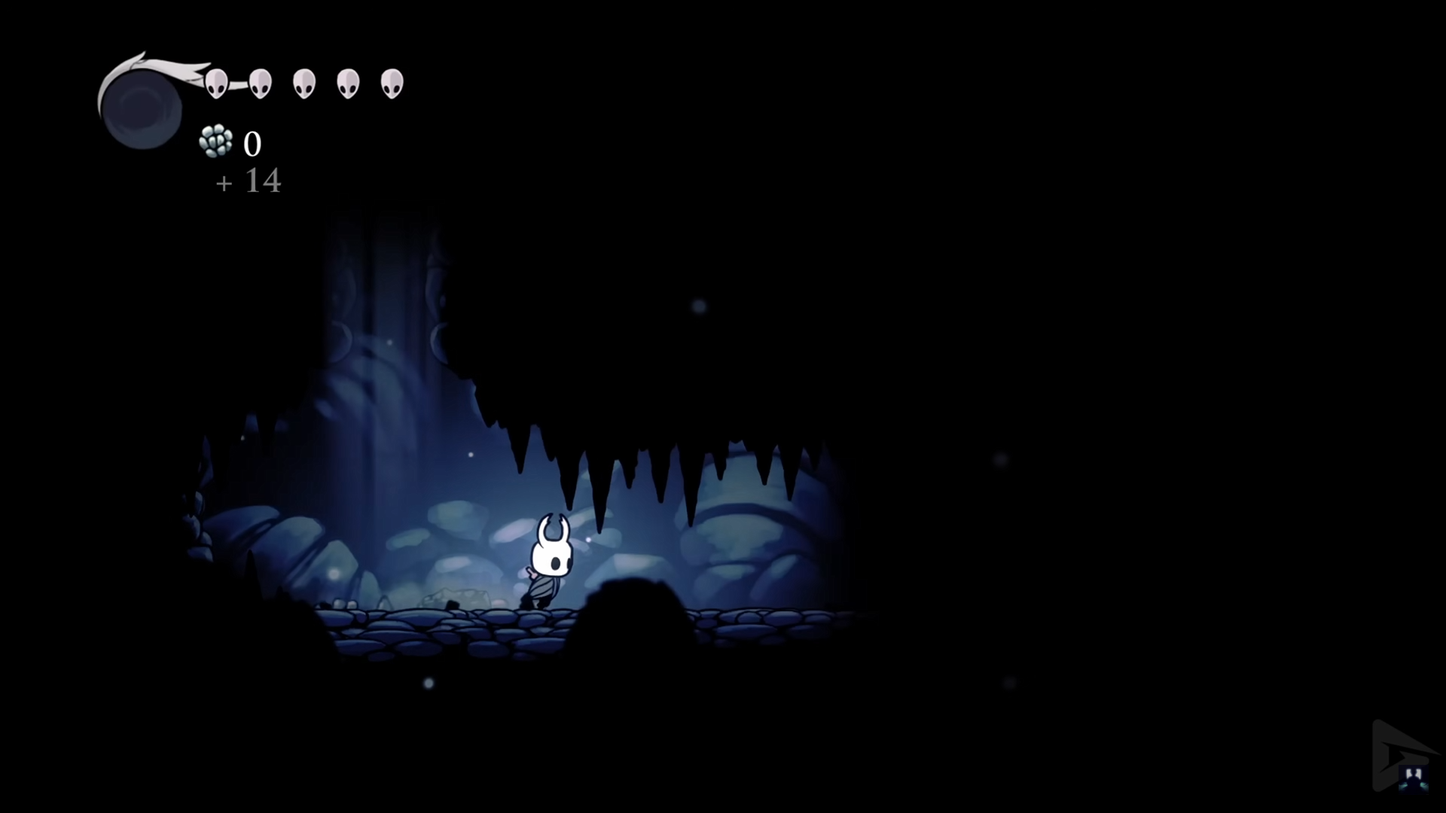HK: (519, 510, 578, 617)
